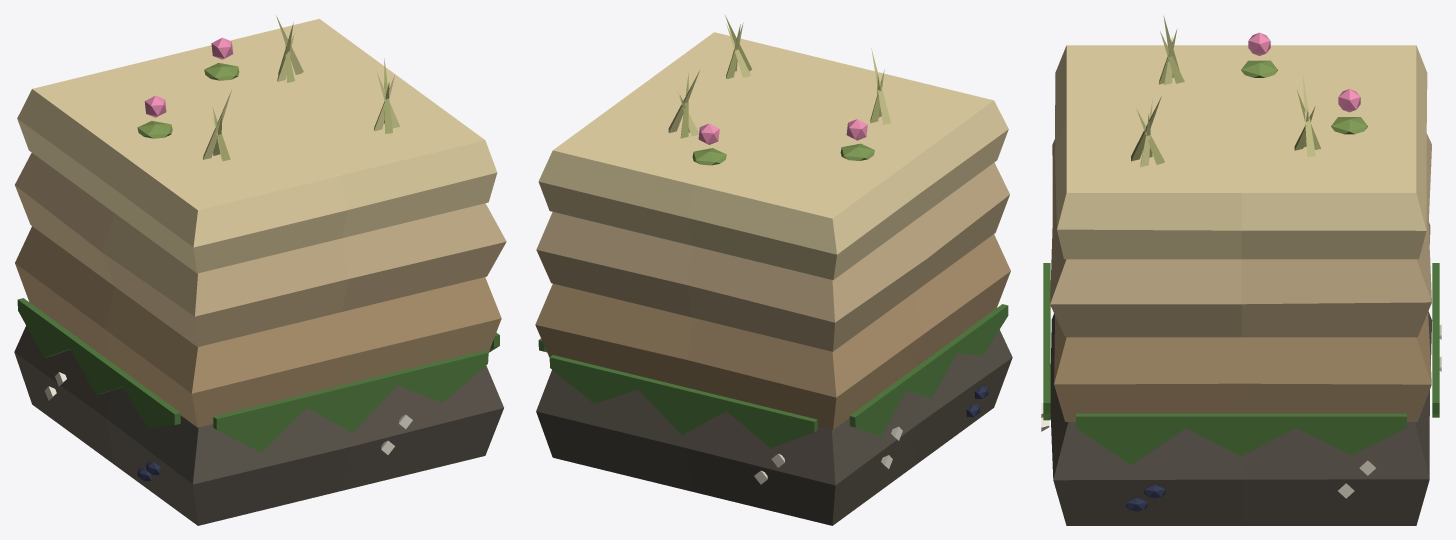
The model's file is cliff_sea.glb.
The picture shows the model from 3 angles, left to right: view 1: azimuth 30°, elevation 25°; view 2: azimuth 150°, elevation 25°; view 3: azimuth 270°, elevation 25°; orthographic projection. The views are drawn at different scales.
Parts seen in each view (by area): view 1: cliff_sea; view 2: cliff_sea; view 3: cliff_sea.
Boxes of the visible parts, bbox=[...] form: cliff_sea: bbox=[14, 15, 506, 525]; cliff_sea: bbox=[535, 15, 1012, 525]; cliff_sea: bbox=[1041, 16, 1441, 525].
Size of the model in its own units: 1.11 by 1.24 by 1.11.
